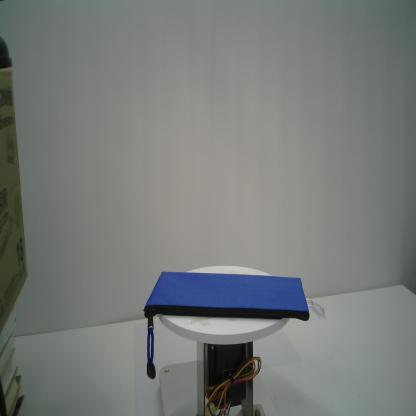Stationery: (141, 267, 328, 380)
